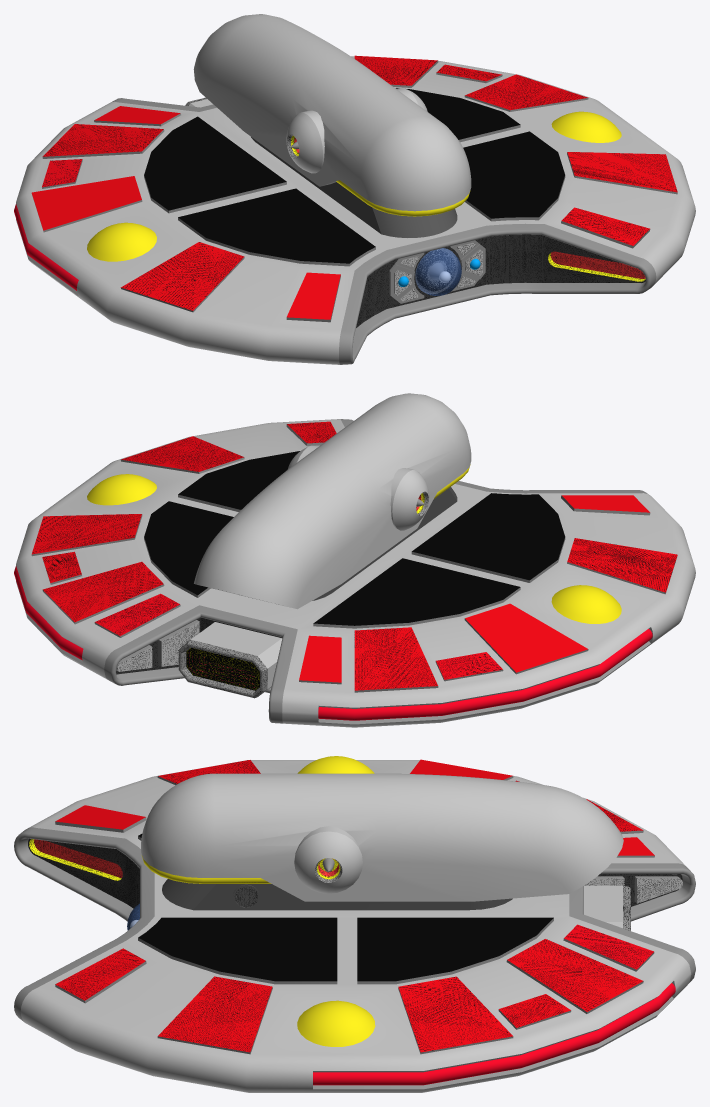
The model's file is updatedYellow.dae.
The picture shows the model from 3 angles, top to bottom: view 1: azimuth 30°, elevation 25°; view 2: azimuth 150°, elevation 25°; view 3: azimuth 270°, elevation 25°; orthographic projection. The views are drawn at different scales.
Visible parts, largest first — view 1: SketchUp (×30); view 2: SketchUp (×33); view 3: SketchUp (×28).
Boxes of the visible parts, x1,y1,x2,y2 form: SketchUp (×30): [14, 14, 695, 364]; SketchUp (×33): [14, 393, 695, 727]; SketchUp (×28): [14, 756, 695, 1092].
Size of the model in its own units: 2735 by 2545 by 807.
